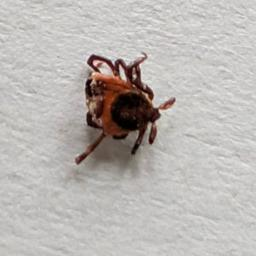Ixodes scapularis: (74, 52, 175, 165)
